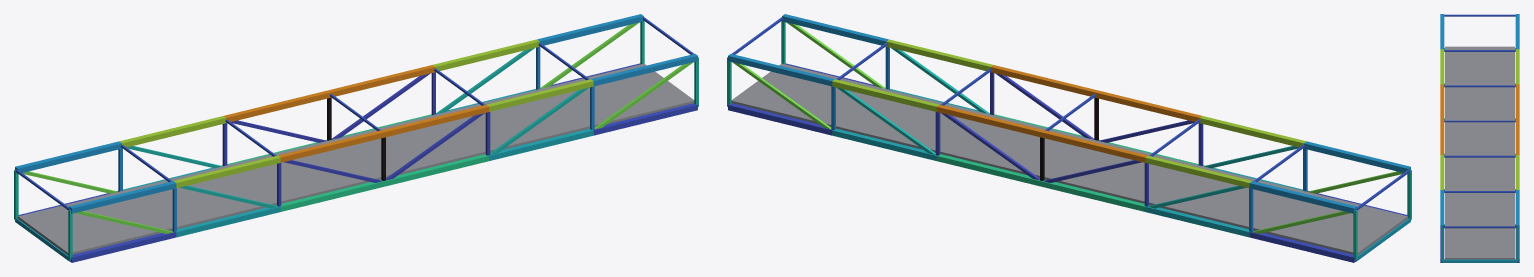
The model's file is 20_1.5_6_HEA160.glb.
3 renders of one model, left to right at view 1: azimuth 30°, elevation 25°; view 2: azimuth 150°, elevation 25°; view 3: azimuth 270°, elevation 25°, orthographic. The views are drawn at different scales.
Size of the model in its own units: 20.09 by 1.66 by 3.16.
